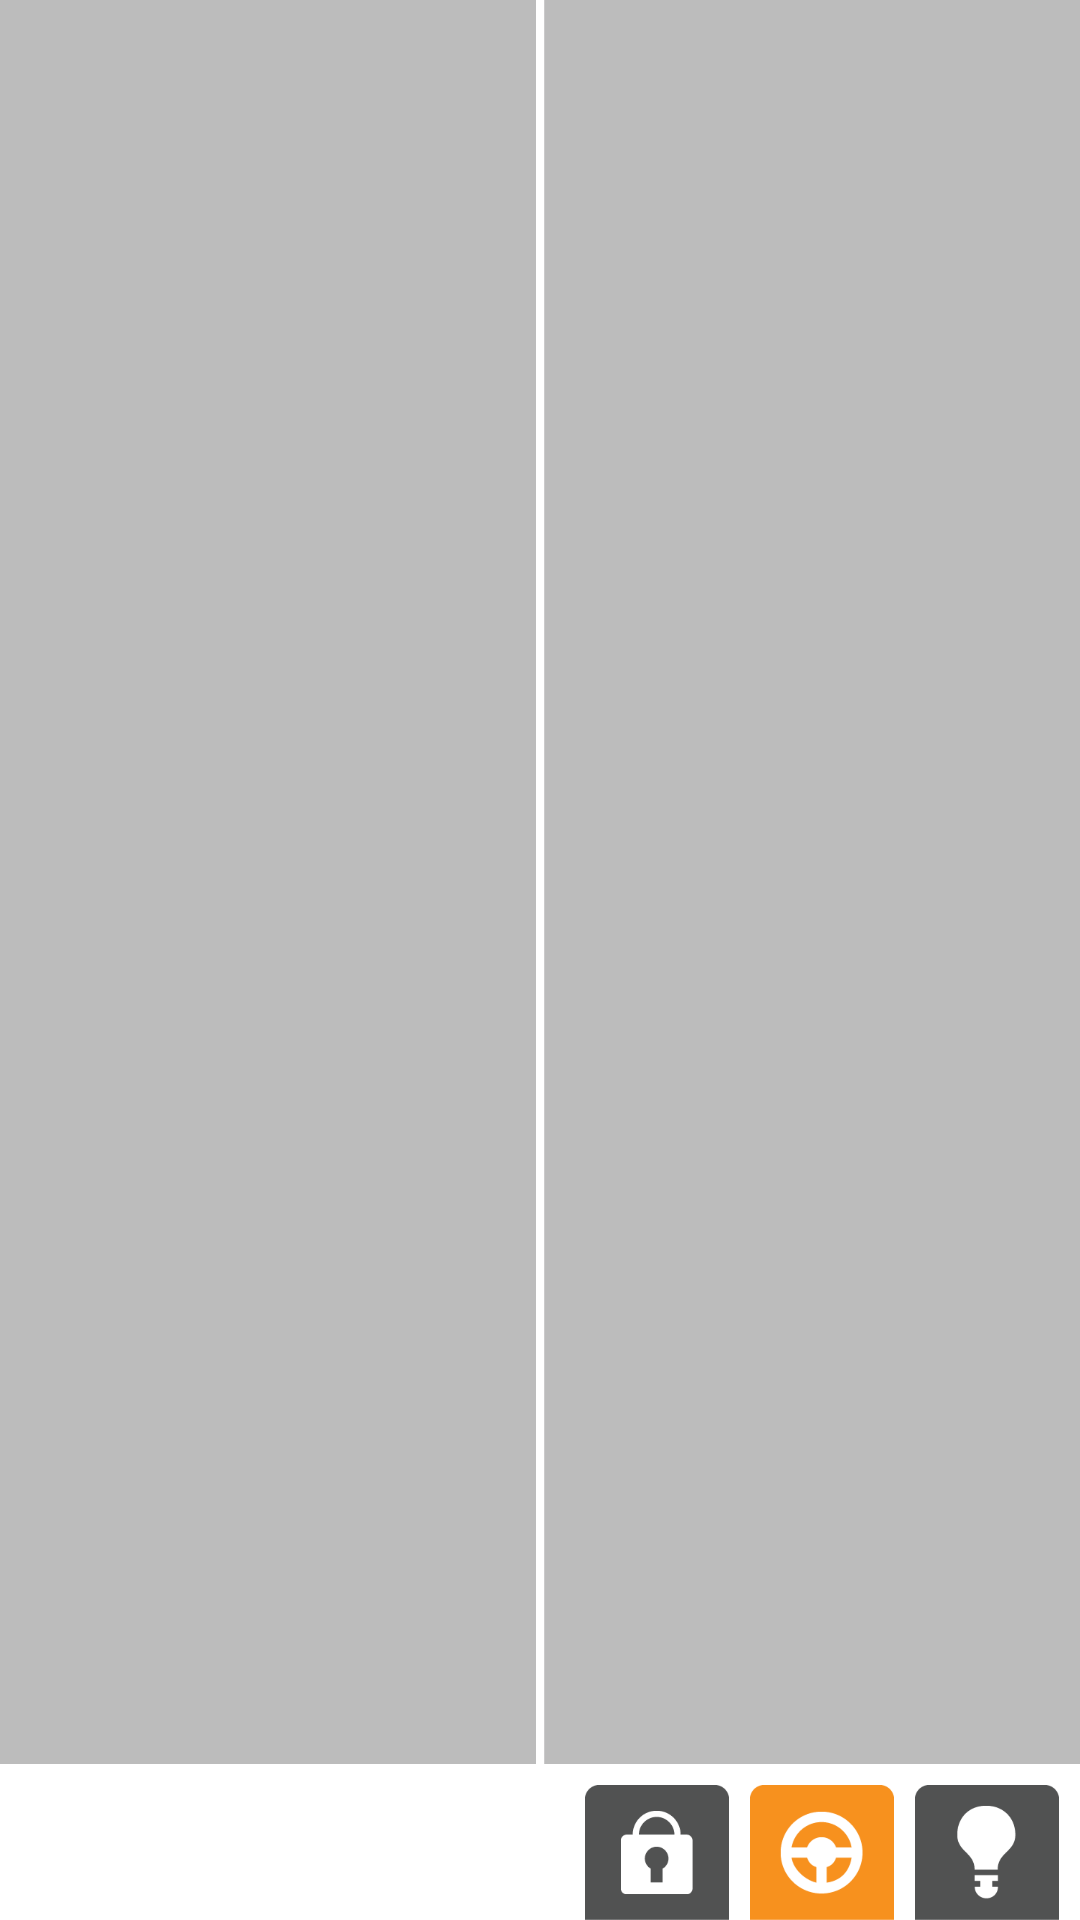

Named icons in this screenshot (1080 × 1920) and their centers, [x,y]:
Bulb: [987,1852]
Padlock: [657,1852]
Steering Wheel: [822,1852]
